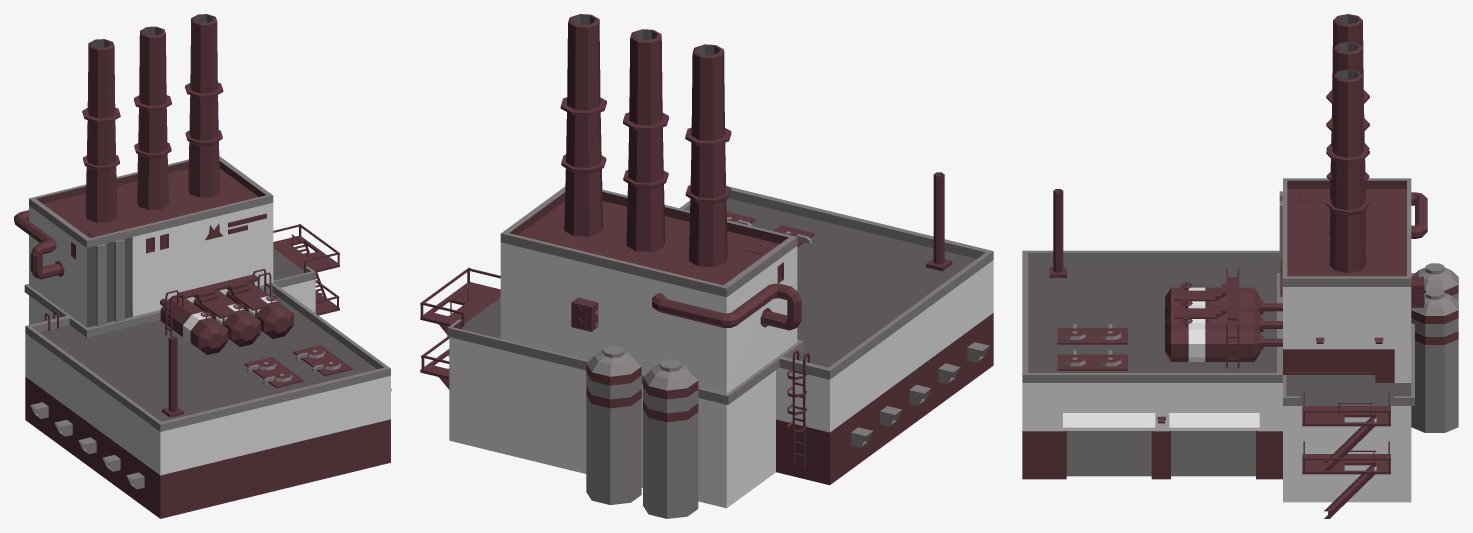
Rendered from buildings-incineration-plant.glb.
The picture shows the model from 3 angles, left to right: view 1: azimuth 30°, elevation 25°; view 2: azimuth 150°, elevation 25°; view 3: azimuth 270°, elevation 25°; orthographic projection. The views are drawn at different scales.
Visible parts, largest first — view 1: incineration-plant; view 2: incineration-plant; view 3: incineration-plant.
Boxes of the visible parts, x1=… form: incineration-plant: x1=14, y1=14, x2=391, y2=518; incineration-plant: x1=420, y1=14, x2=993, y2=518; incineration-plant: x1=1022, y1=14, x2=1458, y2=518.
Size of the model in its own units: 23.02 by 23.88 by 24.65.
